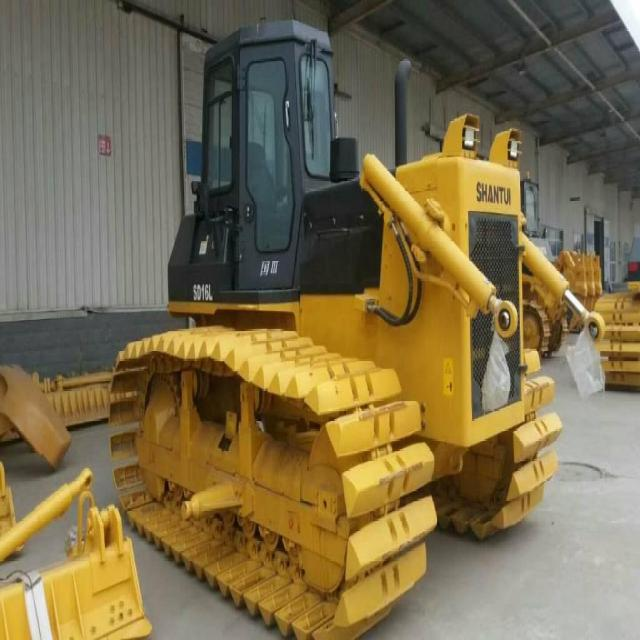Bulldozer: (103, 18, 628, 639)
